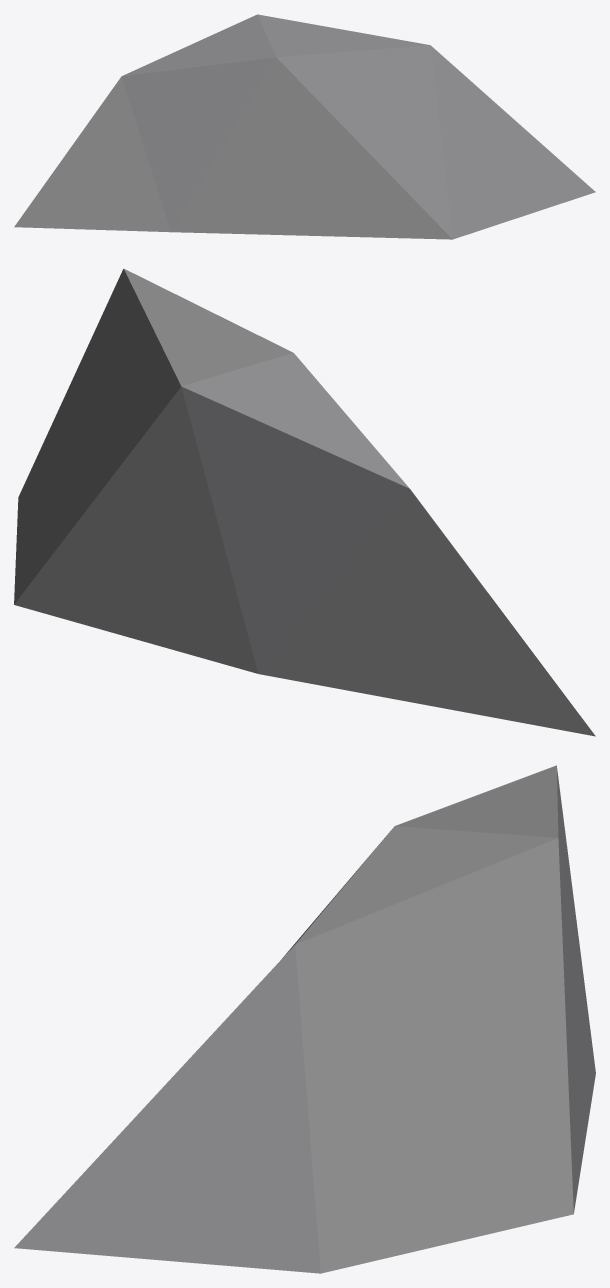
Rendered from RockSmall_02.glb.
3 renders of one model, top to bottom at view 1: azimuth 30°, elevation 25°; view 2: azimuth 150°, elevation 25°; view 3: azimuth 270°, elevation 25°, orthographic. The views are drawn at different scales.
Visible parts, largest first — view 1: RockSmall_02; view 2: RockSmall_02; view 3: RockSmall_02.
Part boxes in pixels (bbox=[...]): RockSmall_02: bbox=[14, 14, 595, 239]; RockSmall_02: bbox=[14, 268, 595, 736]; RockSmall_02: bbox=[14, 765, 595, 1273].
Size of what is drawn, in the model's own units: 1 by 0.328 by 0.6022.
1 material, 1 textured.
